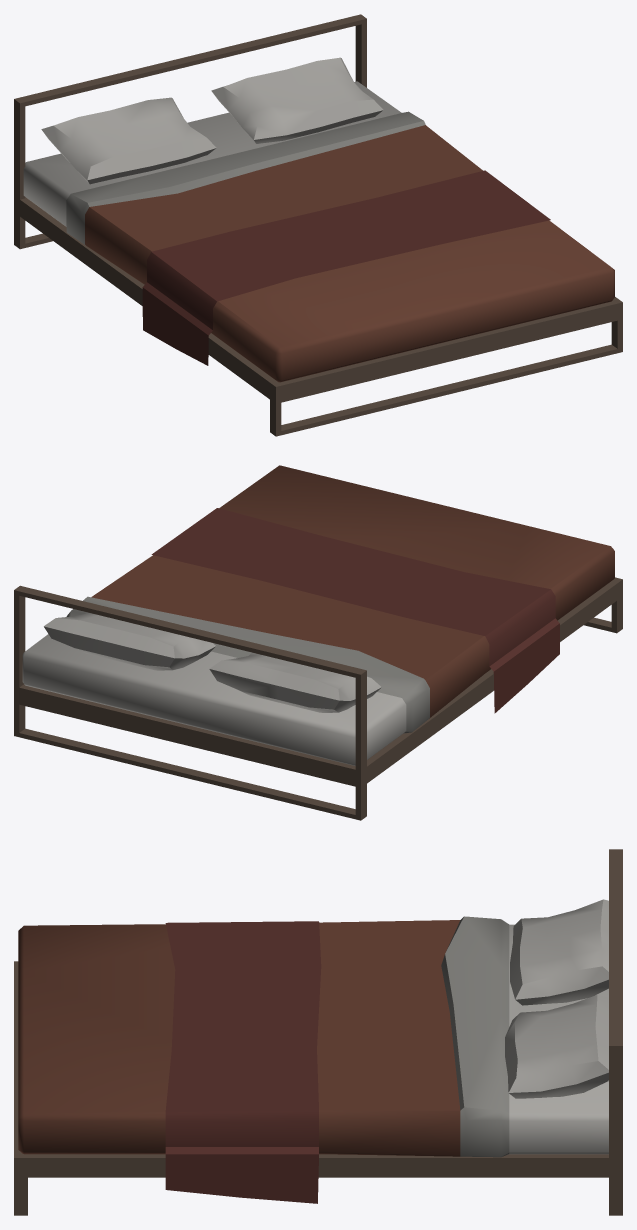
Rendered from quaternius-house-interior-bed-king.glb.
The picture shows the model from 3 angles, top to bottom: view 1: azimuth 30°, elevation 25°; view 2: azimuth 150°, elevation 25°; view 3: azimuth 270°, elevation 25°; orthographic projection. The views are drawn at different scales.
Visible parts, largest first — view 1: Bed_King; view 2: Bed_King; view 3: Bed_King.
Part boxes in pixels (x1,y1,x2,y2): Bed_King: (14, 14, 622, 436); Bed_King: (14, 465, 622, 820); Bed_King: (14, 849, 622, 1215).
Bounding box in the file's own units: 3.06 × 1.21 × 3.95.
1 material, 1 textured.
